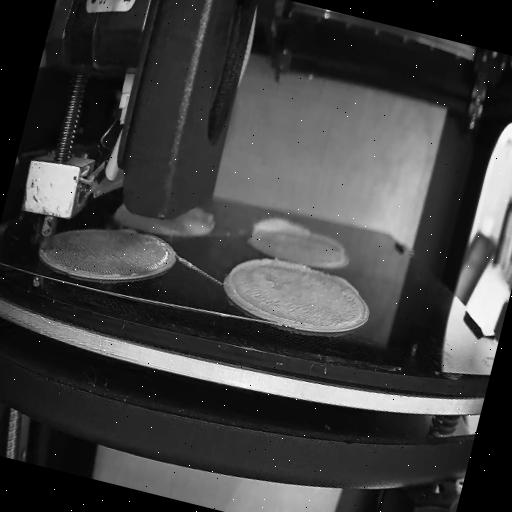over_extrusion: (221, 246, 314, 328), (245, 212, 313, 249), (312, 228, 348, 256), (185, 206, 220, 233), (330, 270, 362, 298)
